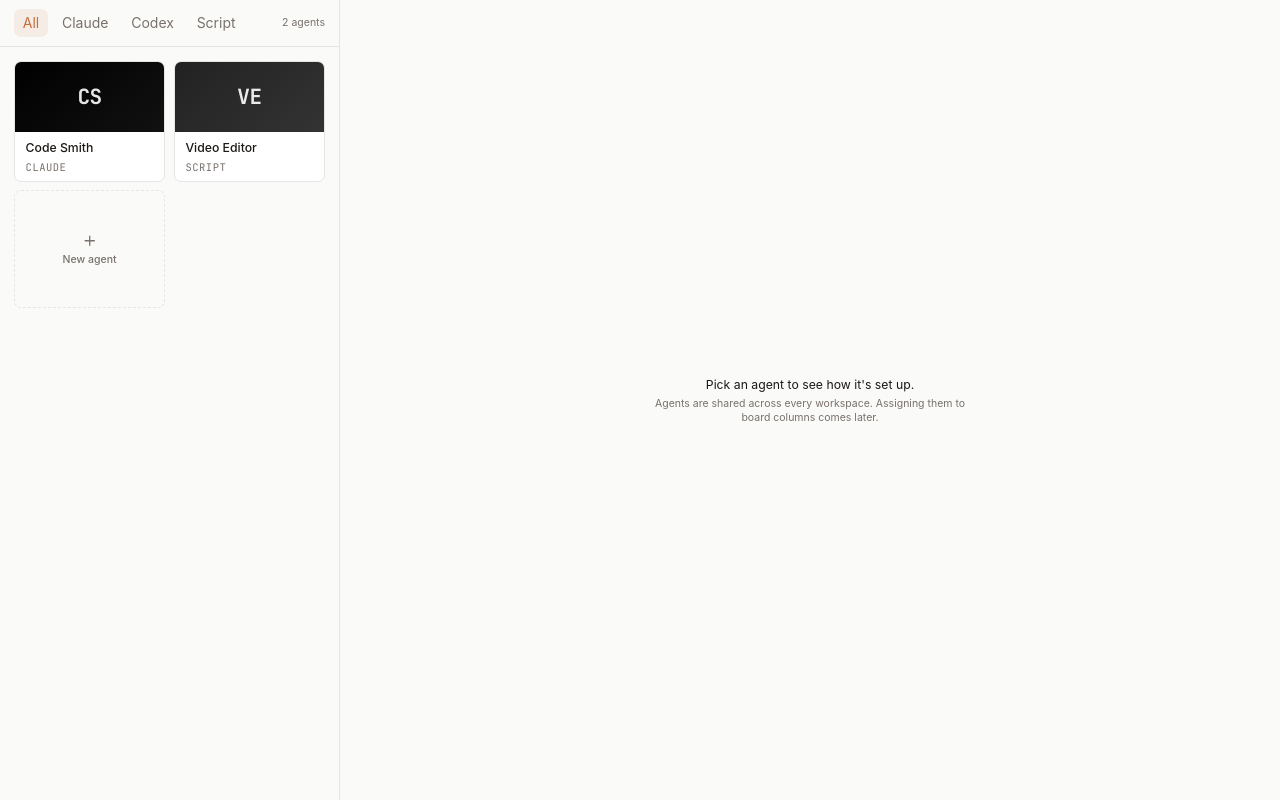
Test: RosterView › swaps the dossier shape with the runtime — the load-bearing behaviour
Click the button with test id "agent-tile-a1": coordinates (90, 121) [14,60,165,182]
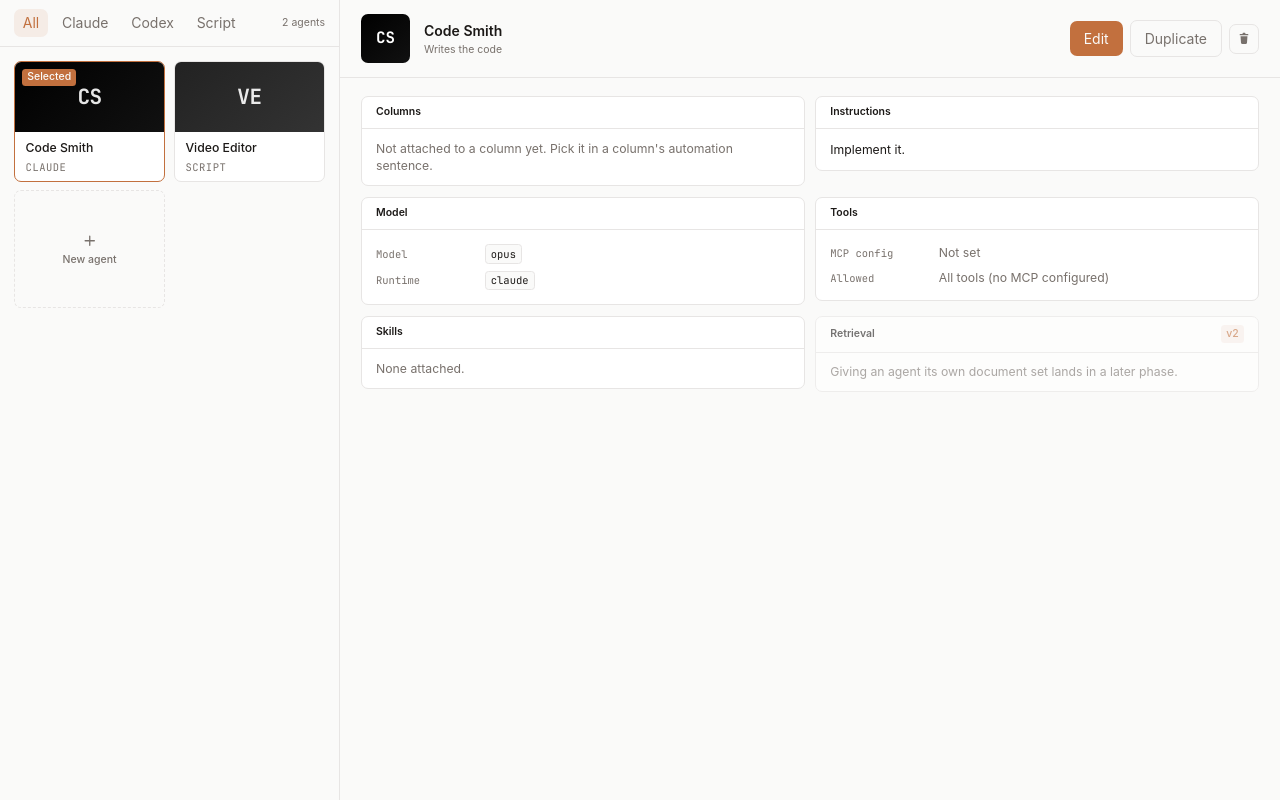
Expected: the text "Command" is not shown
Now the heading "Instructions" is shown, box [830,105,891,119]
Now the heading "Skills" is shown, box [376,325,403,339]
Click the button with test id "agent-tile-a2": coordinates (249, 121) [174,60,325,182]
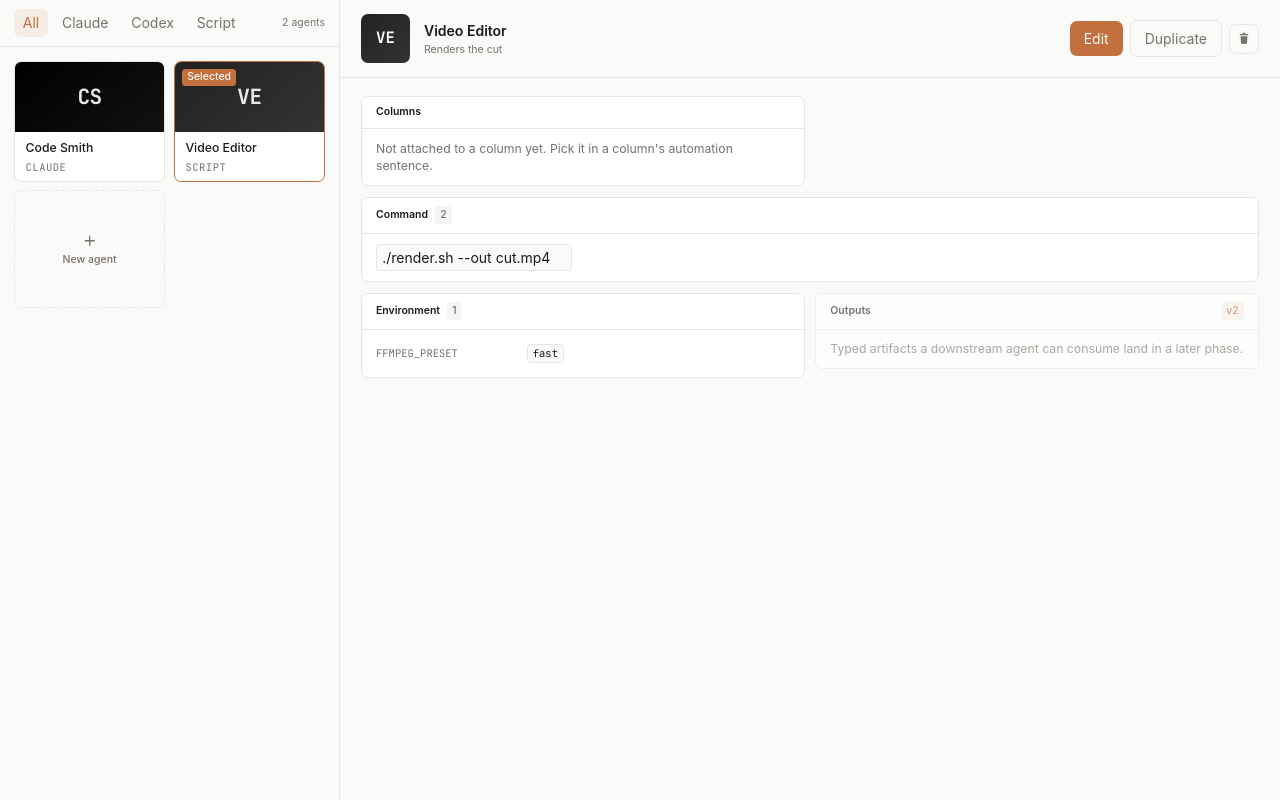
Now the heading "Command" is shown, box [376,208,428,222]
Now the heading "Environment" is shown, box [376,304,440,318]
Now the heading "Instructions" is gone
